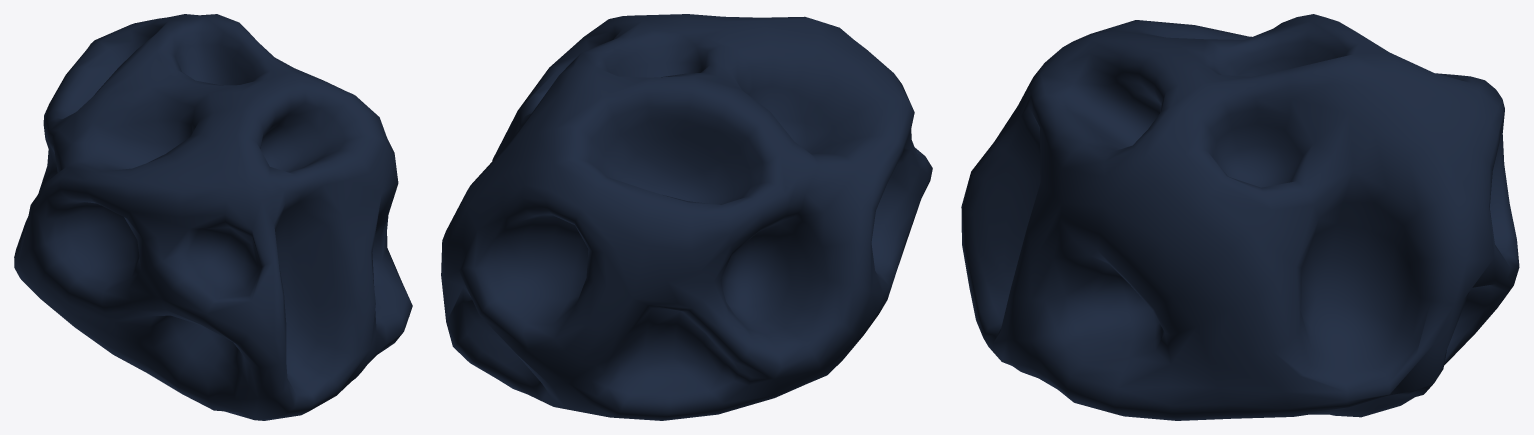
The model's file is spoung_2.fbx.
3 views of the same model, side by side, from view 1: azimuth 30°, elevation 25°; view 2: azimuth 150°, elevation 25°; view 3: azimuth 270°, elevation 25° (orthographic). The views are drawn at different scales.
Visible parts, largest first — view 1: coral_spoung_2_retop; view 2: coral_spoung_2_retop; view 3: coral_spoung_2_retop.
Part boxes in pixels (<box>): coral_spoung_2_retop: <box>14,14,412,420</box>; coral_spoung_2_retop: <box>441,14,932,420</box>; coral_spoung_2_retop: <box>961,14,1519,420</box>.
Size of the model in its own units: 75.2 by 63.16 by 90.86.
